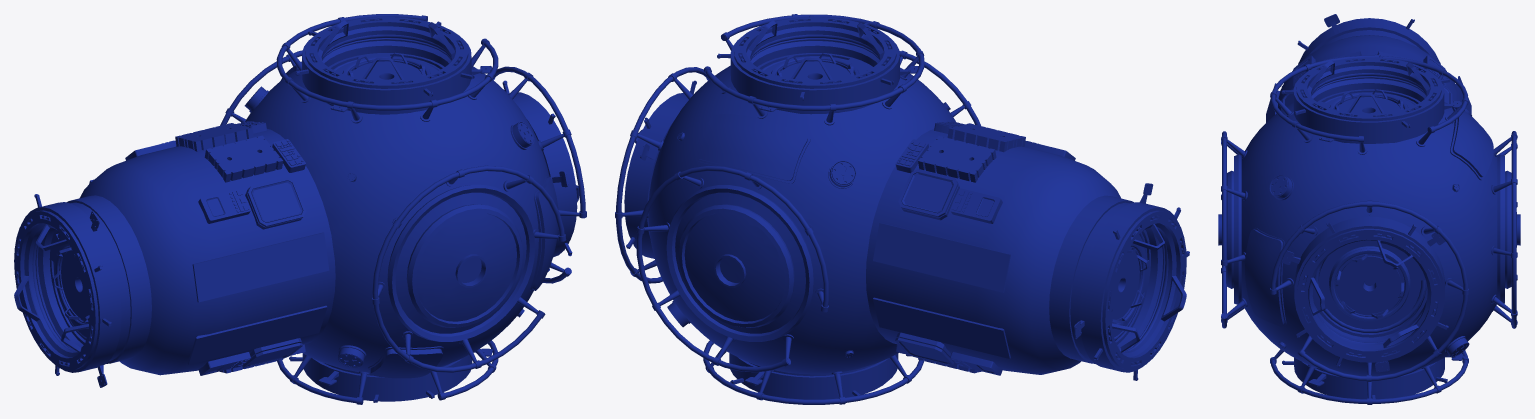
The model's file is CrewAirlock.FBX.
3 renders of one model, left to right at view 1: azimuth 30°, elevation 25°; view 2: azimuth 150°, elevation 25°; view 3: azimuth 270°, elevation 25°, orthographic. The views are drawn at different scales.
Visible parts, largest first — view 1: CrewAirlock_Main, CrewAirlock_Main01, CrewAirlock_Main02, CrewAirlock_Detail19, CrewAirlock_Outer01, CrewAirlock_OuterRing01, CrewAirlock_Railing02, CrewAirlock_OuterRing02, CrewAirlock_OuterRing04, CrewAirlock_Outer02, CrewAirlock_Detail18, CrewAirlock_Railing01 (+15 smaller); view 2: CrewAirlock_Main, CrewAirlock_Main01, CrewAirlock_Detail23, CrewAirlock_Main02, CrewAirlock_Detail11, CrewAirlock_Outer01, CrewAirlock_OuterRing01, CrewAirlock_Railing04, CrewAirlock_OuterRing02, CrewAirlock_Detail12, CrewAirlock_OuterRing04, CrewAirlock_Outer02 (+14 smaller); view 3: CrewAirlock_Main, CrewAirlock_Main03, CrewAirlock_Outer03, CrewAirlock_Main02, CrewAirlock_Railing03, CrewAirlock_OuterRing02, CrewAirlock_OuterRing03, CrewAirlock_OuterRing04, CrewAirlock_Outer02, CrewAirlock_Detail22, CrewAirlock_Railing01, CrewAirlock_OuterRing01 (+10 smaller).
Boxes of the visible parts, x1,y1,x2,y2 form: CrewAirlock_Main: (66, 66, 549, 375); CrewAirlock_Main01: (14, 223, 89, 357); CrewAirlock_Main02: (318, 20, 455, 80); CrewAirlock_Detail19: (192, 232, 329, 302); CrewAirlock_Outer01: (14, 202, 130, 370); CrewAirlock_OuterRing01: (21, 194, 121, 387); CrewAirlock_Railing02: (372, 165, 566, 372); CrewAirlock_OuterRing02: (295, 21, 491, 112); CrewAirlock_OuterRing04: (289, 348, 492, 402); CrewAirlock_Outer02: (305, 17, 468, 114); CrewAirlock_Detail18: (187, 305, 327, 364); CrewAirlock_Railing01: (276, 14, 498, 123); CrewAirlock_Main: (648, 65, 1134, 374); CrewAirlock_Main01: (1111, 223, 1186, 357); CrewAirlock_Detail23: (696, 114, 810, 183); CrewAirlock_Main02: (746, 20, 883, 80); CrewAirlock_Detail11: (873, 223, 1010, 292); CrewAirlock_Outer01: (1070, 202, 1186, 370); CrewAirlock_OuterRing01: (1074, 183, 1189, 380); CrewAirlock_Railing04: (636, 165, 828, 372); CrewAirlock_OuterRing02: (717, 15, 918, 112); CrewAirlock_Detail12: (873, 297, 1010, 358); CrewAirlock_OuterRing04: (729, 353, 911, 399); CrewAirlock_Outer02: (734, 17, 896, 114); CrewAirlock_Main: (1218, 32, 1520, 375); CrewAirlock_Main03: (1308, 239, 1431, 349); CrewAirlock_Outer03: (1297, 228, 1442, 361); CrewAirlock_Main02: (1307, 60, 1430, 113); CrewAirlock_Railing03: (1270, 200, 1468, 381); CrewAirlock_OuterRing02: (1281, 56, 1461, 142); CrewAirlock_OuterRing03: (1281, 216, 1448, 372); CrewAirlock_OuterRing04: (1282, 354, 1463, 399); CrewAirlock_Outer02: (1296, 57, 1441, 143); CrewAirlock_Detail22: (1245, 227, 1286, 326); CrewAirlock_Railing01: (1270, 54, 1468, 154); CrewAirlock_OuterRing01: (1281, 14, 1440, 86).
Size of the model in its own units: 547 by 356 by 313.
